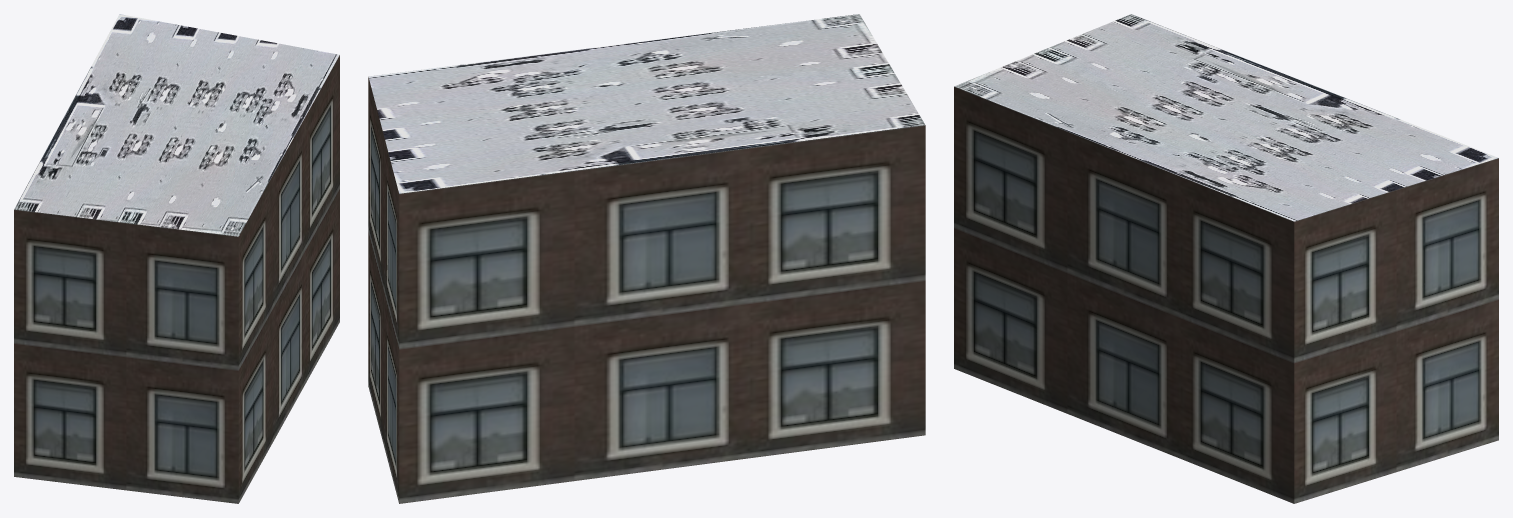
Rendered from ResTex__1263.fbx.
3 renders of one model, left to right at view 1: azimuth 30°, elevation 25°; view 2: azimuth 150°, elevation 25°; view 3: azimuth 270°, elevation 25°, orthographic. The views are drawn at different scales.
Parts seen in each view (by area): view 1: CityEngineMaterial_16_m, CityEngineMaterial_15_m; view 2: CityEngineMaterial_16_m, CityEngineMaterial_15_m; view 3: CityEngineMaterial_16_m, CityEngineMaterial_15_m.
Part boxes in pixels (left/top/right/bottom): CityEngineMaterial_16_m: left=14, top=55, right=339, bottom=503; CityEngineMaterial_15_m: left=14, top=14, right=339, bottom=236; CityEngineMaterial_16_m: left=368, top=77, right=925, bottom=503; CityEngineMaterial_15_m: left=368, top=14, right=924, bottom=193; CityEngineMaterial_16_m: left=954, top=86, right=1498, bottom=503; CityEngineMaterial_15_m: left=954, top=14, right=1498, bottom=221.
Bounding box in the file's own units: 9.47 × 6 × 10.5.
Materials: 2 (2 with a texture image).
